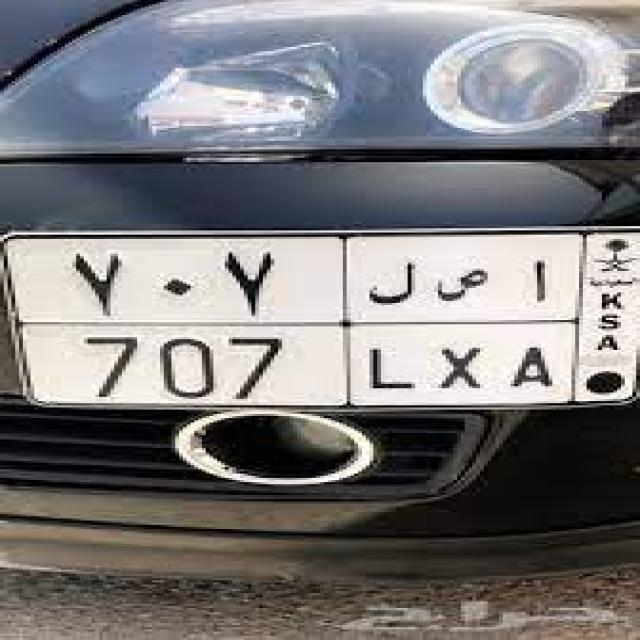license_plate: (0, 220, 640, 414)
